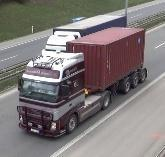Truck: (16, 28, 146, 140)
